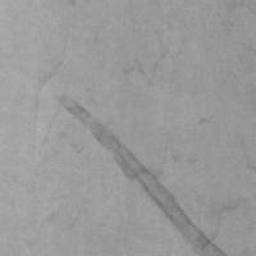Water spot: (56, 95, 228, 256)
